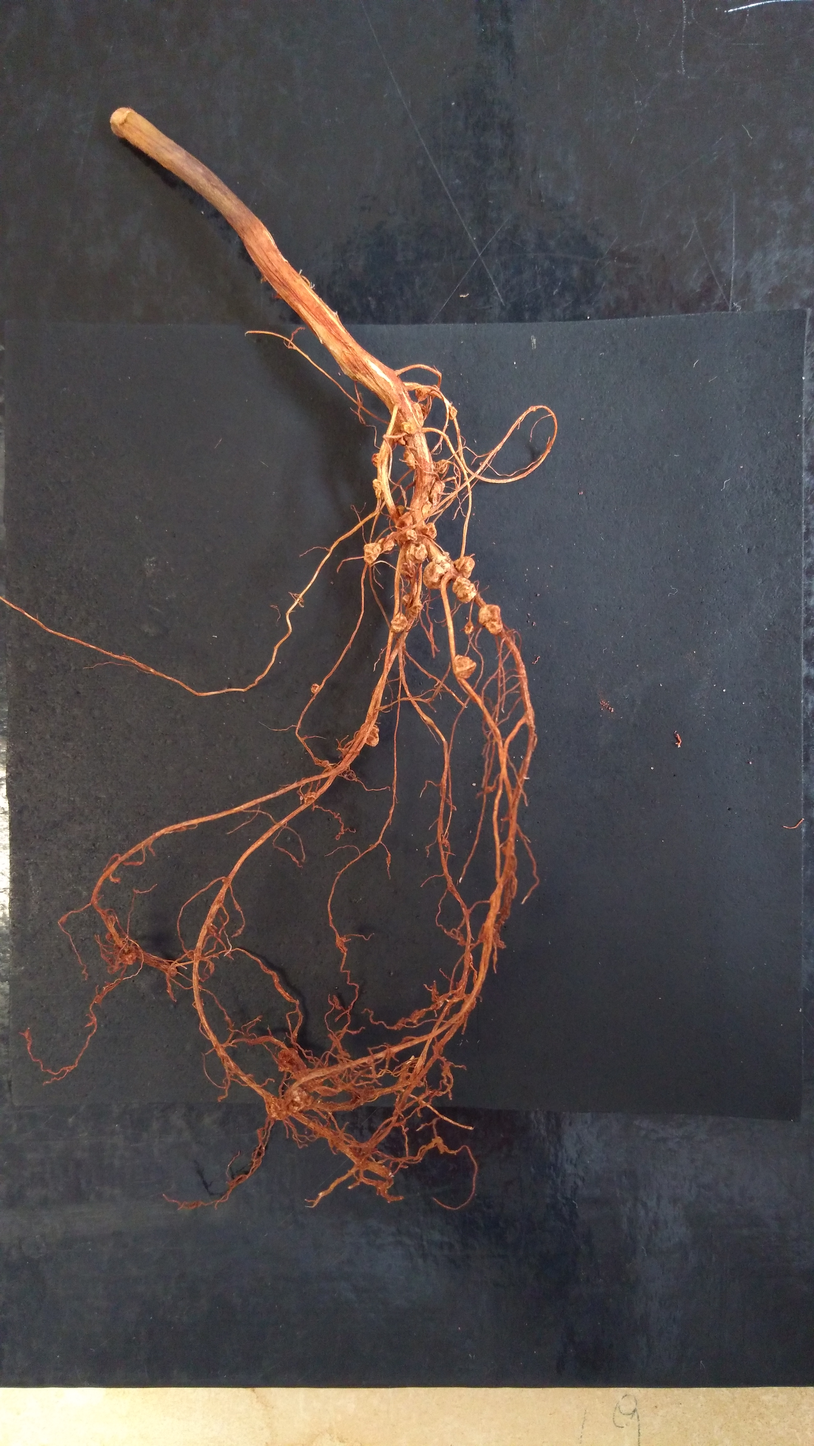nodule: (422, 554, 452, 591), (284, 1085, 314, 1112), (477, 603, 503, 634), (278, 1047, 307, 1074), (293, 1068, 322, 1093), (264, 1096, 294, 1119), (452, 577, 477, 604), (453, 654, 477, 680), (453, 555, 476, 578), (403, 543, 428, 564), (429, 480, 446, 508), (362, 542, 381, 565), (363, 724, 379, 748), (390, 612, 408, 633), (402, 446, 418, 469), (411, 401, 424, 426), (372, 479, 386, 500), (420, 522, 437, 539), (378, 538, 395, 552), (399, 512, 414, 527), (121, 952, 137, 966), (414, 387, 429, 401), (401, 421, 416, 435), (445, 406, 458, 421), (435, 459, 448, 474), (405, 529, 419, 542), (421, 501, 432, 517), (304, 790, 317, 803), (401, 592, 412, 606), (394, 433, 406, 445), (371, 453, 380, 468), (167, 966, 179, 977), (395, 504, 405, 515), (464, 622, 474, 633), (310, 682, 319, 694), (336, 938, 345, 947), (104, 932, 113, 940), (321, 759, 329, 767), (529, 405, 536, 412)
